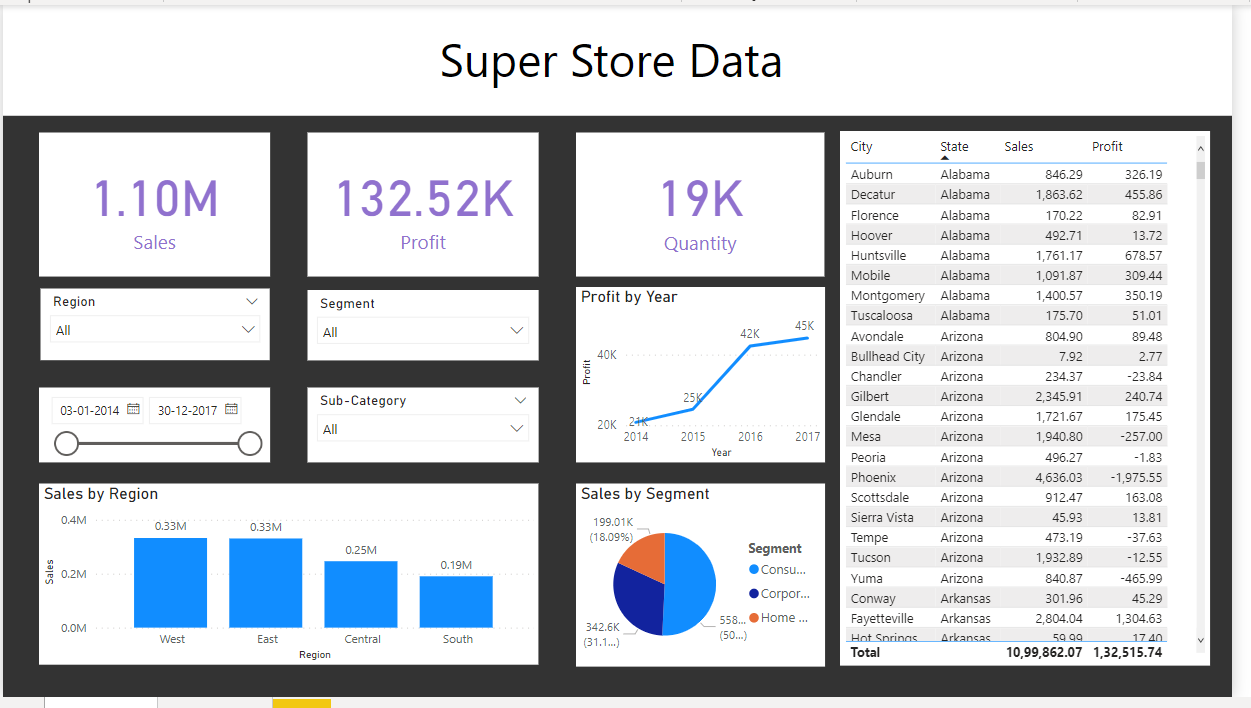

The page's visual inventory and layout, read from the dashboard file:
{"tool":"powerbi","page":{"name":"Overall","canvas":[1280,720],"ordinal":0},"visuals":[{"type":"clusteredColumnChart","fields":{"Category":["Sample - Superstore.Region"],"Y":["Sum(Sample - Superstore.Sales)"]},"box":[328,173.4,479.5,303],"z":0},{"type":"card","fields":{"Values":["Sum(Sample - Superstore.Sales)"]},"box":[328,31.2,210.8,142.1],"z":1000},{"type":"card","fields":{"Values":["Sum(Sample - Superstore.Profit)"]},"box":[538.8,32.8,232.7,142.1],"z":2000},{"type":"textbox","title":"Superstore Dashboard","box":[0,0,1280.7,34.4],"z":3000},{"type":"slicer","fields":{"Values":["Sample - Superstore.Region"]},"box":[0,34.4,328,75],"z":4000},{"type":"lineChart","fields":{"Y":["Sum(Sample - Superstore.Profit)"],"Category":["Sample - Superstore.Order Date.Variation.Date Hierarchy.Year","Sample - Superstore.Order Date.Variation.Date Hierarchy.Quarter","Sample - Superstore.Order Date.Variation.Date Hierarchy.Month","Sample - Superstore.Order Date.Variation.Date Hierarchy.Day"]},"box":[807.5,174.9,473.2,301.4],"z":5000},{"type":"slicer","title":"Segment","fields":{"Values":["Sample - Superstore.Segment"]},"box":[0,109.3,328,75],"z":6000},{"type":"slicer","title":"Segment","fields":{"Values":["Sample - Superstore.Sub-Category"]},"box":[0,181.2,328,75],"z":7000},{"type":"tableEx","fields":{"Values":["Sample - Superstore.City","Sample - Superstore.State","Sum(Sample - Superstore.Sales)"]},"box":[0,337.4,328,382.6],"z":8000},{"type":"slicer","fields":{"Values":["Sample - Superstore.Order Date"]},"box":[0,256.1,328,81.2],"z":9000},{"type":"card","fields":{"Values":["Sum(Sample - Superstore.Quantity)"]},"box":[771.5,34.4,249.9,140.6],"z":10000},{"type":"pieChart","fields":{"Y":["Sum(Sample - Superstore.Sales)"],"Category":["Sample - Superstore.Segment"]},"box":[328,476.4,479.5,243.6],"z":11000},{"type":"card","fields":{"Values":["Count(Sample - Superstore.Customer Name)"]},"box":[1021.4,34.4,259.3,140.6],"z":12000},{"type":"treemap","fields":{"Values":["Sum(Sample - Superstore.Quantity)"],"Group":["Sample - Superstore.State"]},"box":[807,476,473,244],"z":13000}]}

Visuals, with their boxes in screenshot pixels (x1, y1, x2, y2), scaled from the page's 1280x720 canvas onto the 1251x708 screenshot:
clusteredColumnChart - Sample - Superstore.Region x Sum(Sample - Superstore.Sales): box(321, 171, 789, 468)
card - Sum(Sample - Superstore.Sales): box(321, 31, 527, 170)
card - Sum(Sample - Superstore.Profit): box(527, 32, 754, 172)
"Superstore Dashboard" textbox: box(0, 0, 1250, 34)
slicer - Sample - Superstore.Region: box(0, 34, 321, 108)
lineChart - Sum(Sample - Superstore.Profit) x Sample - Superstore.Order Date.Variation.Date Hierarchy.Year: box(789, 172, 1250, 468)
"Segment" slicer: box(0, 107, 321, 181)
"Segment" slicer: box(0, 178, 321, 252)
tableEx - Sample - Superstore.City x Sample - Superstore.State: box(0, 332, 321, 707)
slicer - Sample - Superstore.Order Date: box(0, 252, 321, 332)
card - Sum(Sample - Superstore.Quantity): box(754, 34, 998, 172)
pieChart - Sum(Sample - Superstore.Sales) x Sample - Superstore.Segment: box(321, 468, 789, 707)
card - Count(Sample - Superstore.Customer Name): box(998, 34, 1250, 172)
treemap - Sum(Sample - Superstore.Quantity) x Sample - Superstore.State: box(789, 468, 1250, 707)
